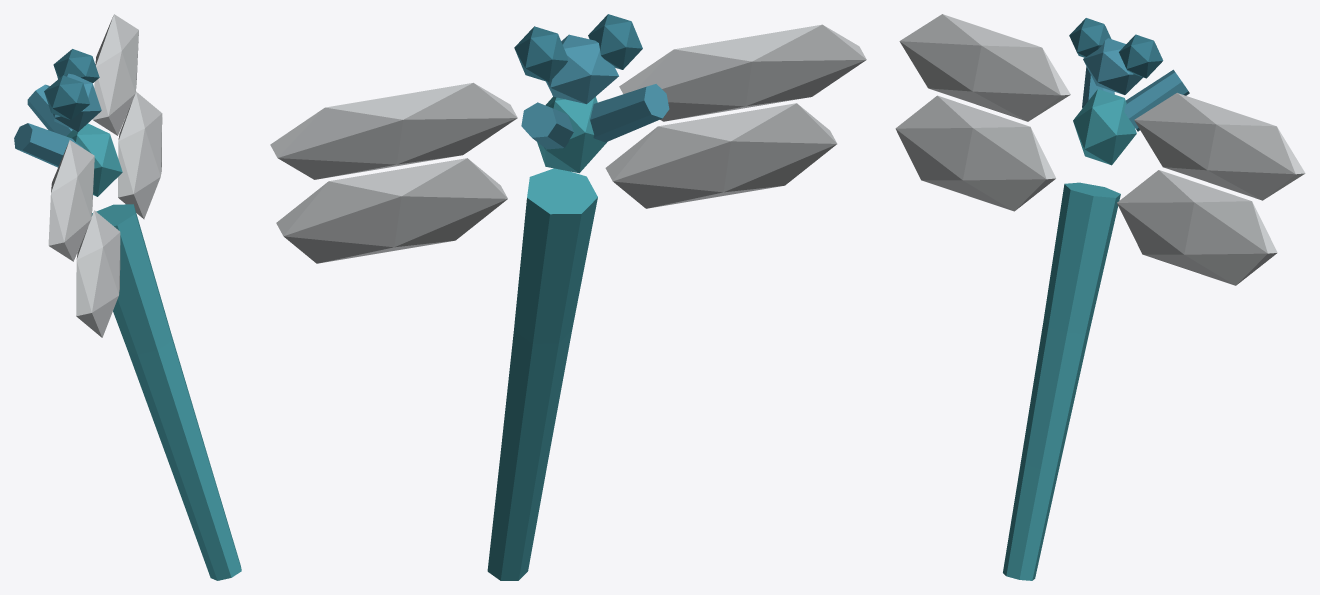
The picture shows the model from 3 angles, left to right: view 1: azimuth 30°, elevation 25°; view 2: azimuth 150°, elevation 25°; view 3: azimuth 270°, elevation 25°; orthographic projection. The views are drawn at different scales.
Parts seen in each view (by area): view 1: part1, part0, part10, part9, part8, part7, part2, part3, part12, part6, part5, part4 (+1 smaller); view 2: part9, part10, part7, part8, part0, part1, part2, part4, part12, part3, part5, part6 (+1 smaller); view 3: part10, part9, part7, part8, part0, part1, part2, part3, part4, part11, part5, part6.
Part boxes in pixels (x1,y1,x2,y2): part1: [128, 334, 210, 479]; part0: [91, 204, 172, 354]; part10: [76, 210, 120, 337]; part9: [118, 91, 162, 219]; part8: [48, 140, 94, 261]; part7: [93, 14, 138, 135]; part2: [173, 464, 241, 580]; part3: [66, 123, 122, 196]; part12: [14, 123, 83, 167]; part6: [44, 75, 89, 119]; part5: [53, 49, 99, 82]; part4: [51, 73, 101, 131]; part9: [276, 158, 507, 263]; part10: [605, 103, 837, 208]; part7: [270, 82, 517, 179]; part8: [619, 24, 866, 121]; part0: [514, 168, 597, 343]; part1: [499, 330, 571, 474]; part2: [487, 463, 547, 580]; part4: [546, 34, 618, 104]; part12: [590, 84, 669, 142]; part3: [537, 96, 606, 173]; part5: [514, 26, 568, 82]; part6: [588, 14, 642, 69]; part10: [895, 95, 1056, 211]; part9: [1117, 170, 1277, 285]; part7: [1134, 93, 1305, 200]; part8: [899, 14, 1070, 121]; part0: [1043, 182, 1120, 333]; part1: [1021, 322, 1089, 469]; part2: [1003, 460, 1059, 580]; part3: [1073, 89, 1136, 165]; part4: [1083, 38, 1142, 94]; part11: [1124, 69, 1189, 131]; part5: [1119, 34, 1163, 78]; part6: [1069, 18, 1111, 57].
Size of the model in its own units: 8.32 by 13.55 by 10.11.
